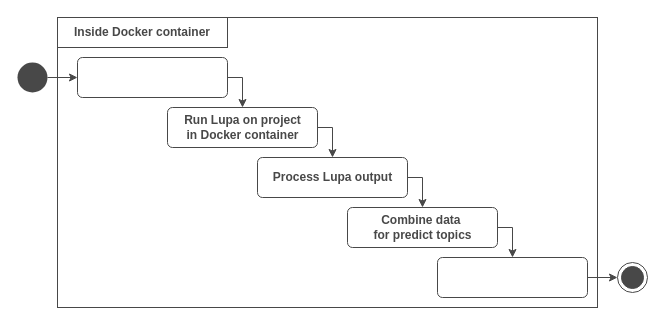
Image size: 665x325. Some labels were removed from this diagram. Here are the shapes that lost their labels. From the top down, the centre of each, then its label:
At point (152, 77): "Clone project from Github".
At point (512, 277): "Predict topics and save to file".
